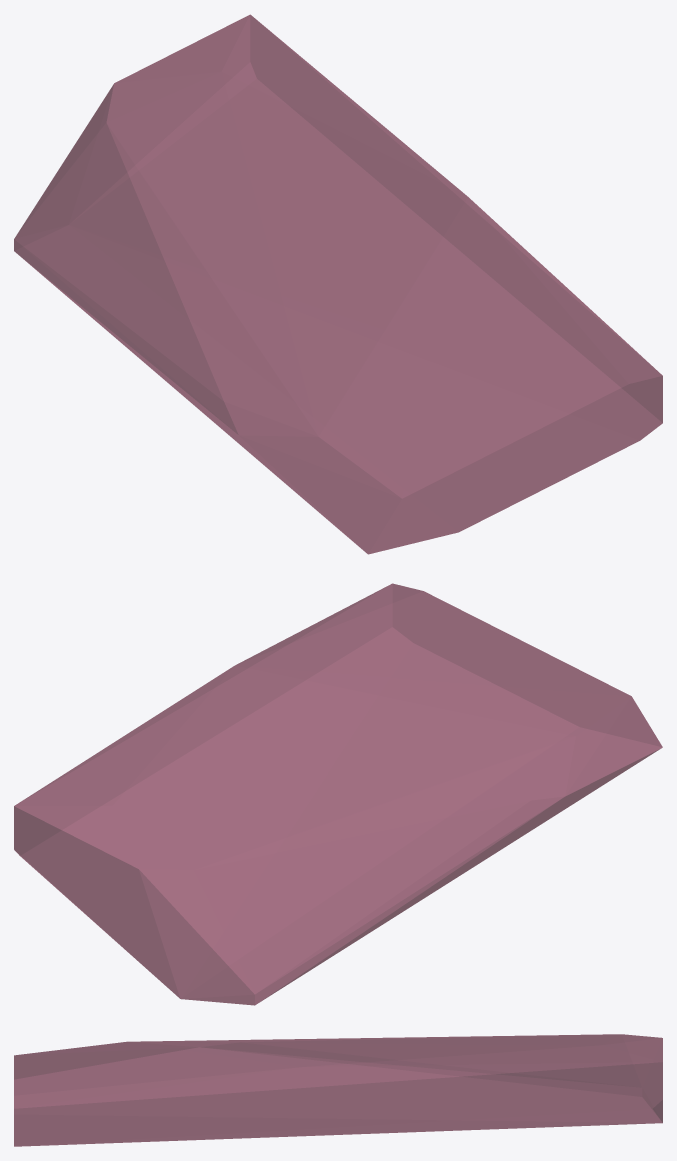
The picture shows the model from 3 angles, top to bottom: view 1: azimuth 30°, elevation 25°; view 2: azimuth 150°, elevation 25°; view 3: azimuth 270°, elevation 25°; orthographic projection. The views are drawn at different scales.
Visible parts, largest first — view 1: Shape_IndexedFaceSet.053_Shape_IndexedFaceSet.14086; view 2: Shape_IndexedFaceSet.053_Shape_IndexedFaceSet.14086; view 3: Shape_IndexedFaceSet.053_Shape_IndexedFaceSet.14086.
Part boxes in pixels (box(x1,y1,x2,y2)): Shape_IndexedFaceSet.053_Shape_IndexedFaceSet.14086: box(14, 14, 662, 554); Shape_IndexedFaceSet.053_Shape_IndexedFaceSet.14086: box(14, 583, 662, 1005); Shape_IndexedFaceSet.053_Shape_IndexedFaceSet.14086: box(14, 1034, 662, 1146).
Size of the model in its own units: 0.0903 by 0.0468 by 0.2107.
